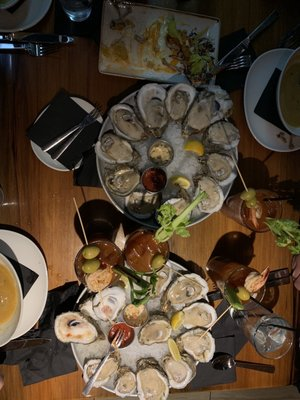sushi: (97, 0, 222, 85)
